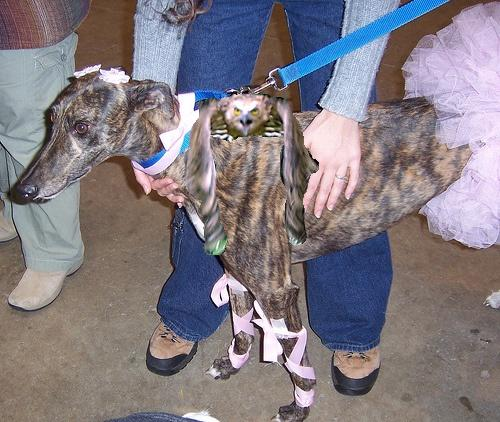tampered: (185, 94, 319, 255)
